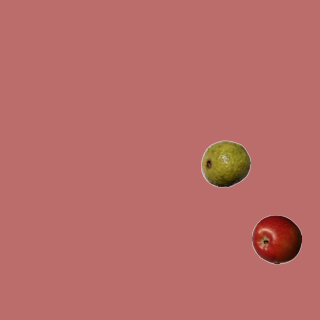Apple Braeburn: (251, 214, 301, 264)
Guava: (200, 138, 250, 188)
